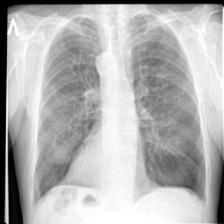tuberculosis: (31, 13, 210, 215)
